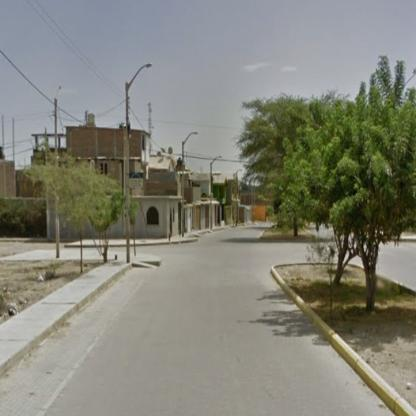Pista: (2, 223, 393, 414)
